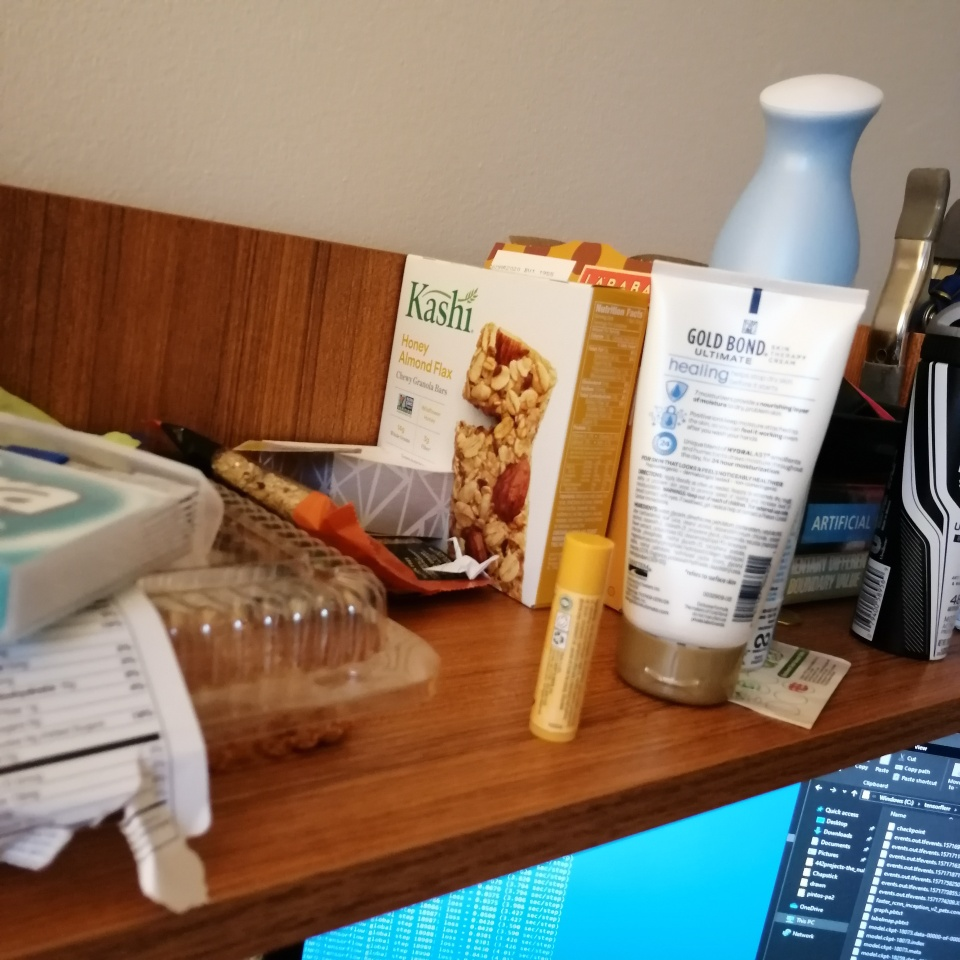chapstick: (529, 531, 614, 742)
